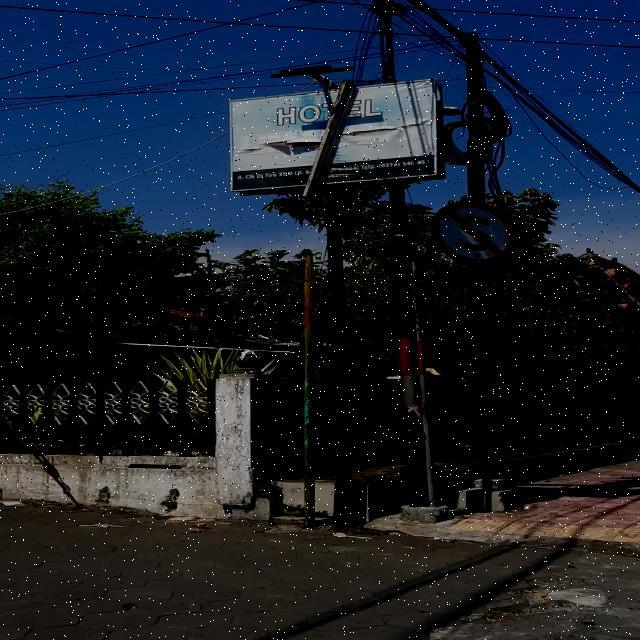Dilarang Berhenti: (431, 202, 516, 265)
